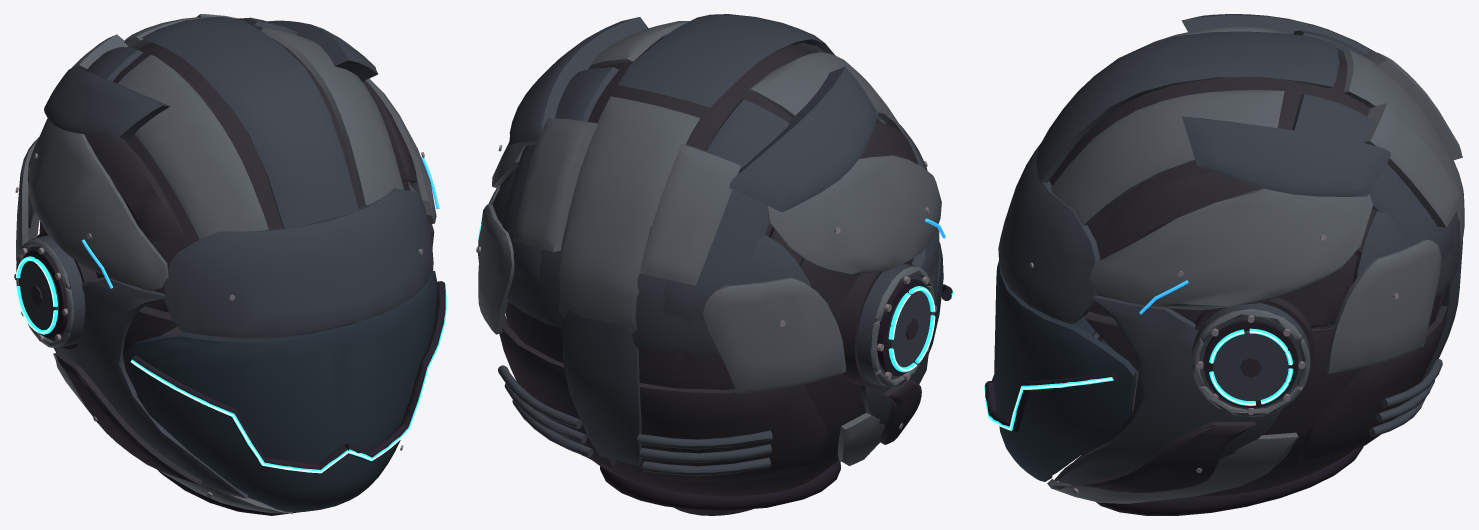
The model's file is helmet_lylu.glb.
The picture shows the model from 3 angles, left to right: view 1: azimuth 30°, elevation 25°; view 2: azimuth 150°, elevation 25°; view 3: azimuth 270°, elevation 25°; orthographic projection. The views are drawn at different scales.
Parts seen in each view (by area): view 1: coque, visiere; view 2: coque, visiere; view 3: coque, visiere.
Boxes of the visible parts, x1,y1,x2,y2 form: coque: (14,14,439,515); visiere: (126,271,447,512); coque: (476,14,945,515); visiere: (929,242,954,352); coque: (998,14,1464,515); visiere: (983,261,1136,481).
Bounding box in the file's own units: 0.308 × 0.3263 × 0.3216.
